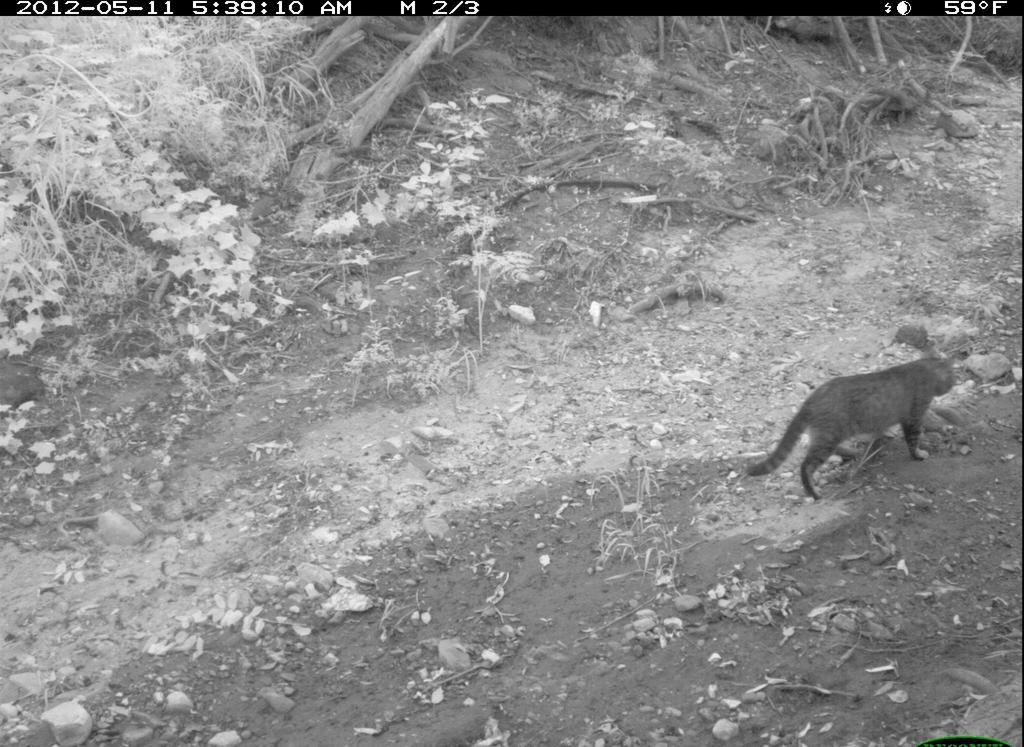cat: (731, 346, 989, 506)
